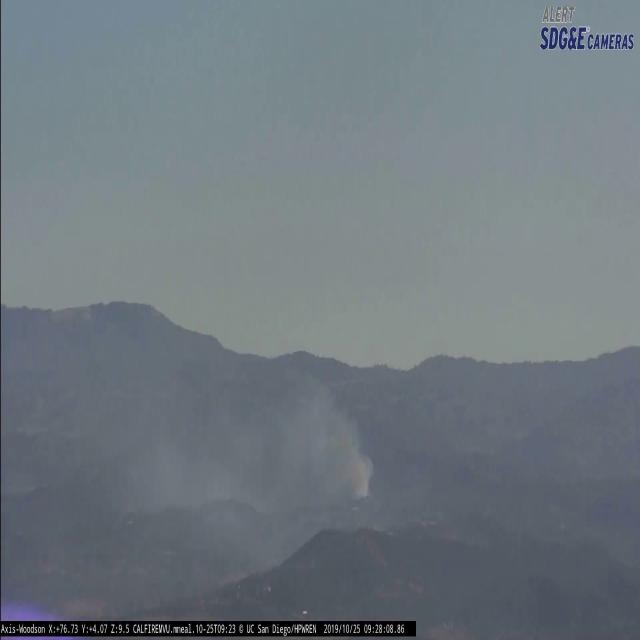smoke: (117, 358, 374, 580)
